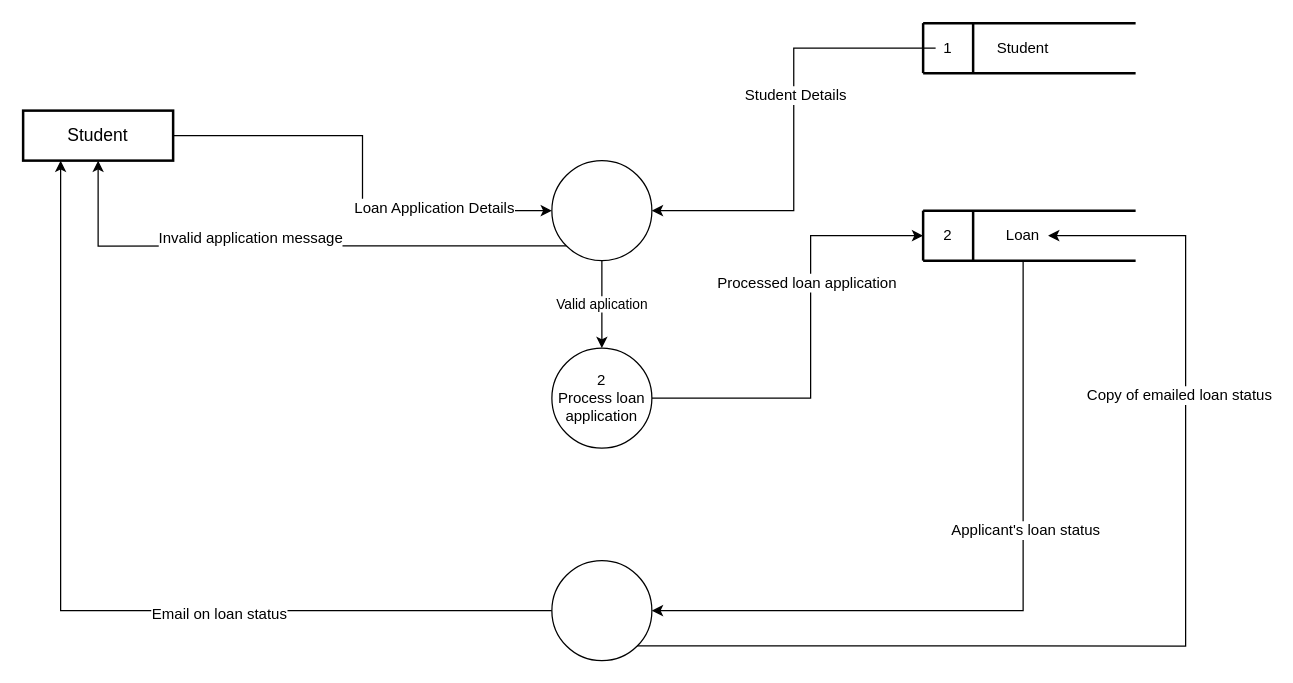
This 1293x683 diagram has some shape labels left out. Each missing label, with the centre of its shape:
1 Verify loan application: point 601,210
3 Inform loan status: point 601,610
